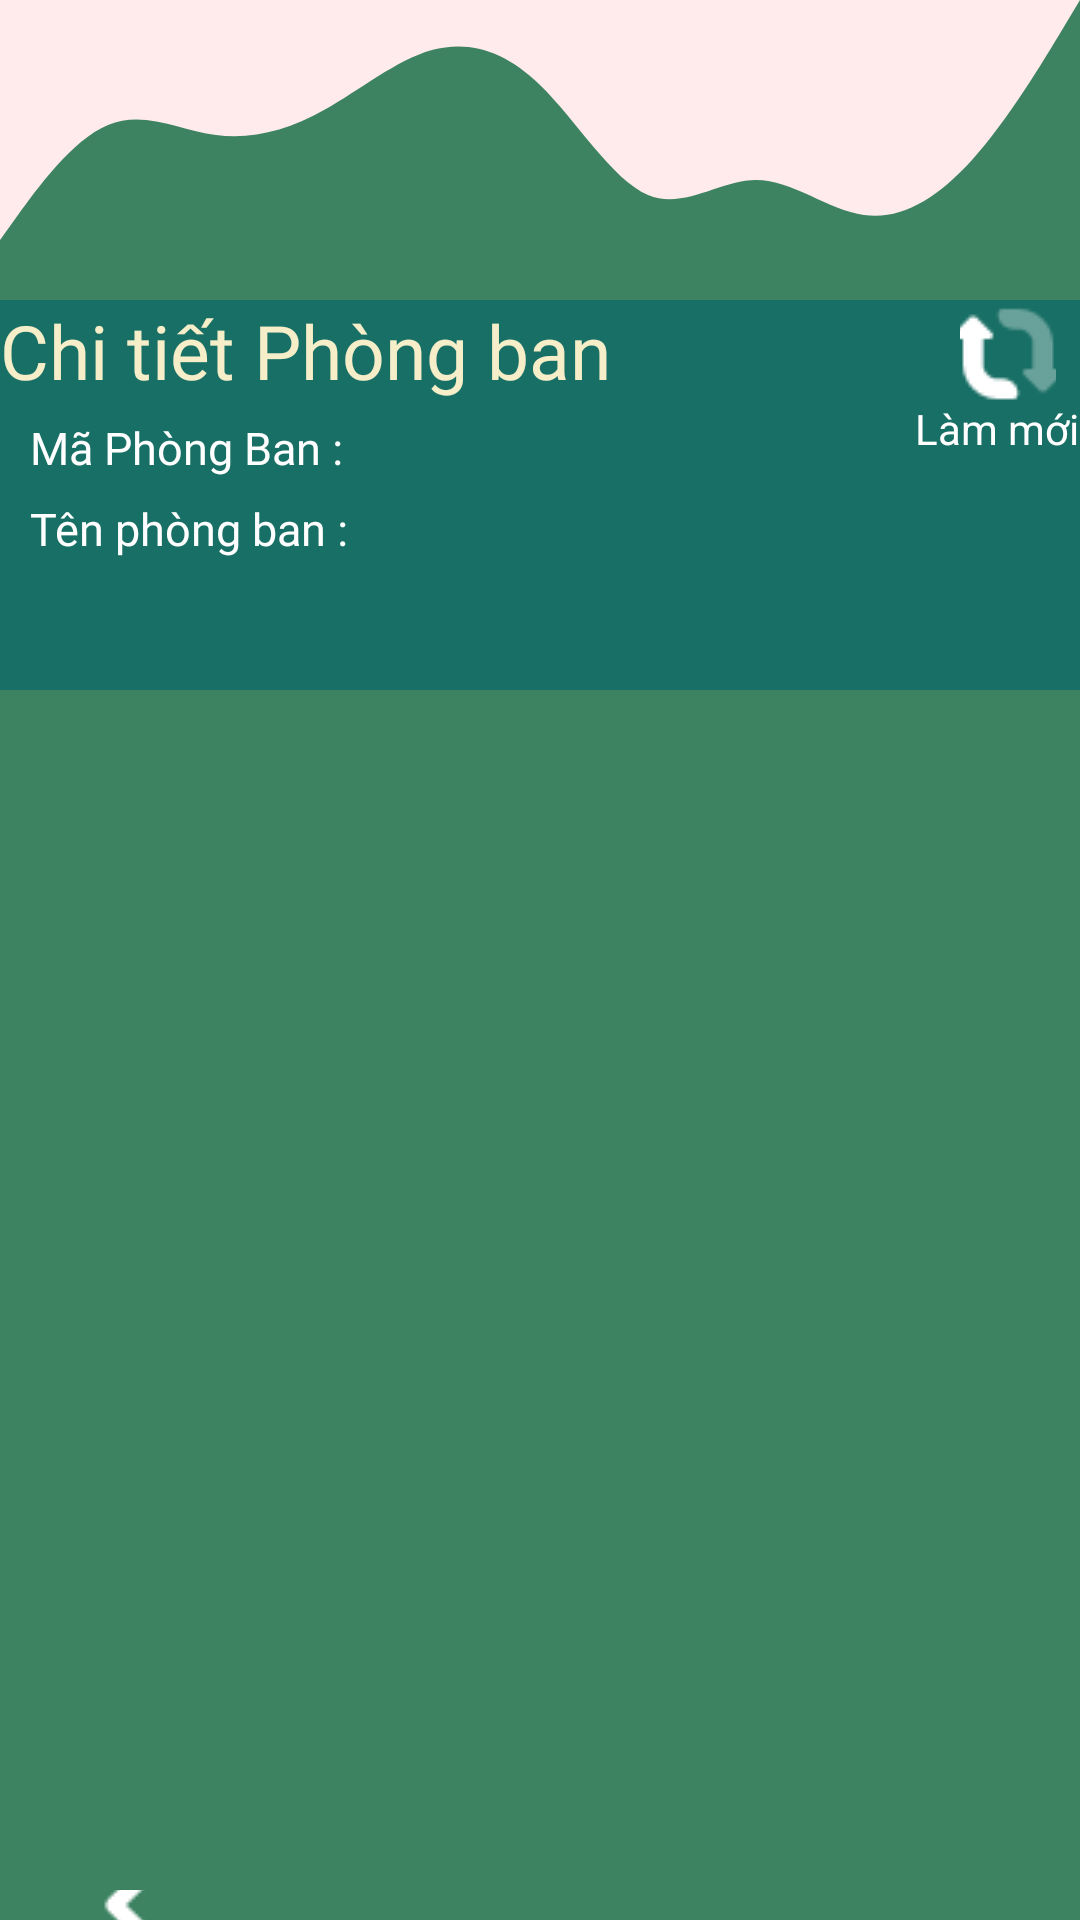

Screen size 1080 × 1920. Icon name, then its box in pixels as (x1, y1, x2, y2):
back: (104, 1890, 144, 1920)
